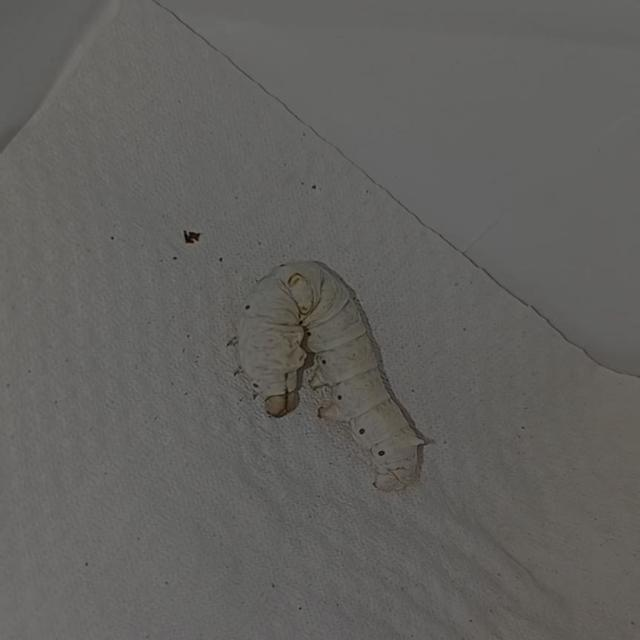Healthy: (219, 218, 495, 509)
